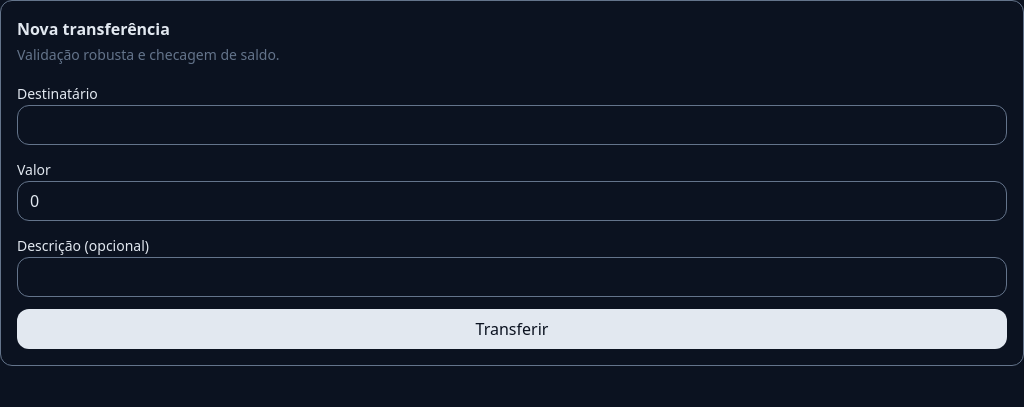
TransferForm › mostra erro quando mutate falha
Type "Maria" into the field labelled "Destinatário". click: (512, 125)
box: [17,105,1007,145]
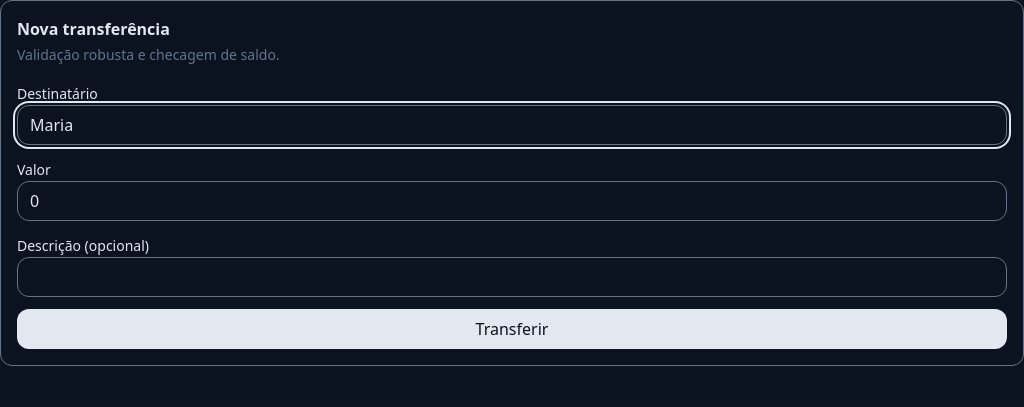
Replace the text in the number field labelled "Valor" with "10". click: (512, 201)
box: [17,181,1007,221]
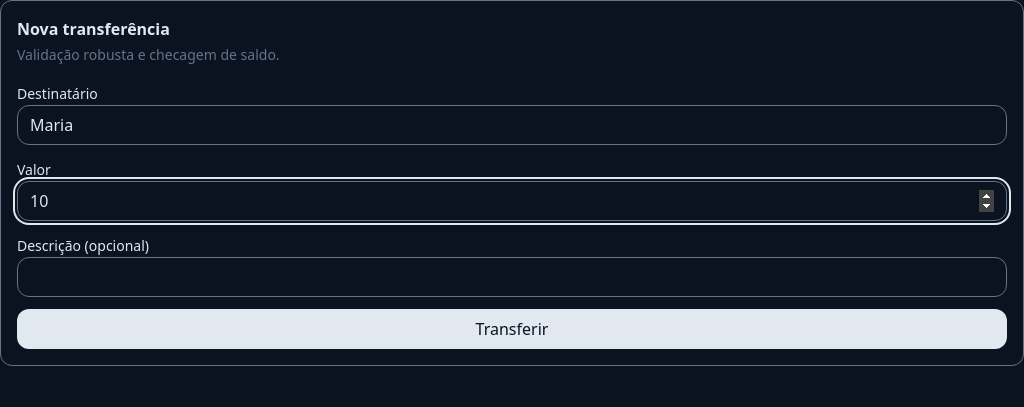
Type "Teste" into the field labelled "Descrição (opcional)". click: (512, 277)
box: [17,257,1007,297]
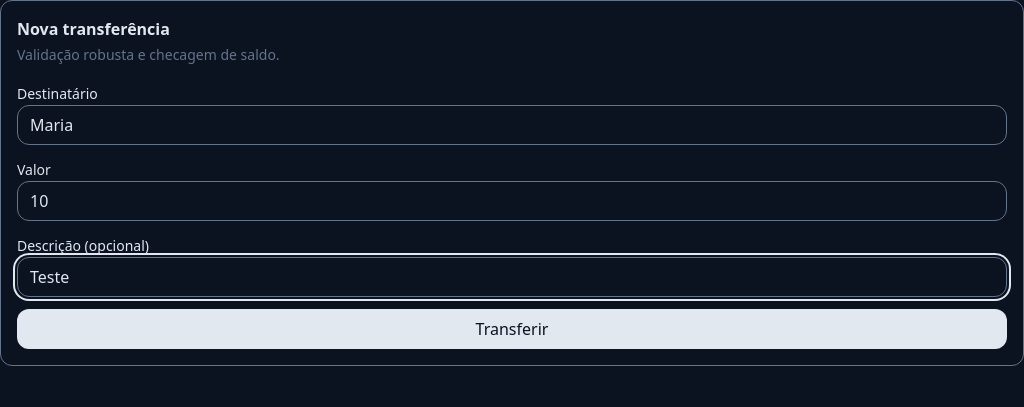
Click the button "Transferir". click: (512, 329)
box: [17,309,1007,349]
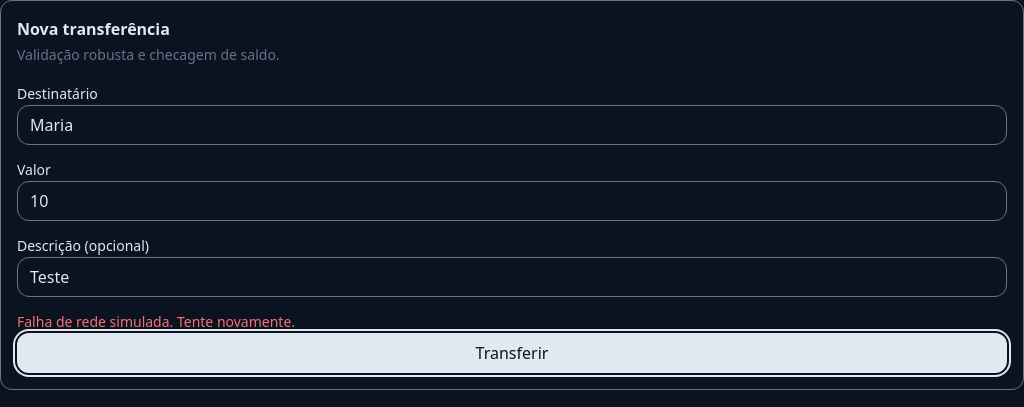
Expected: the text "Falha de rede simulada. Tente novamente." is shown, [17,312,295,331]
